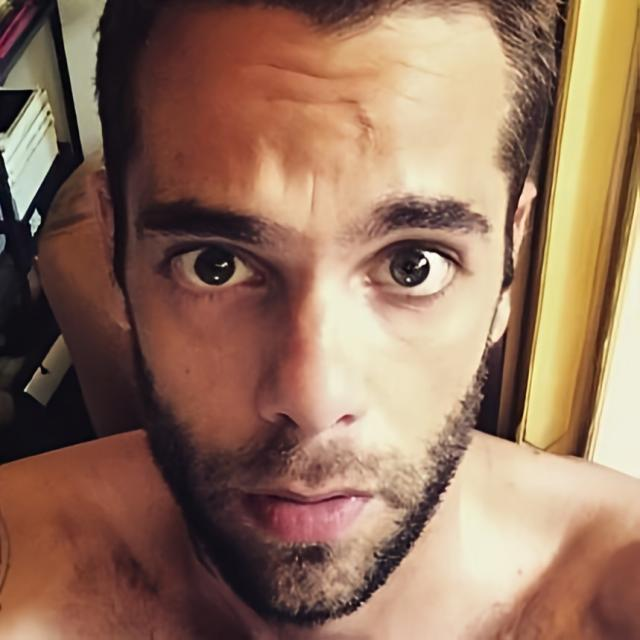surprise: (126, 1, 514, 624)
